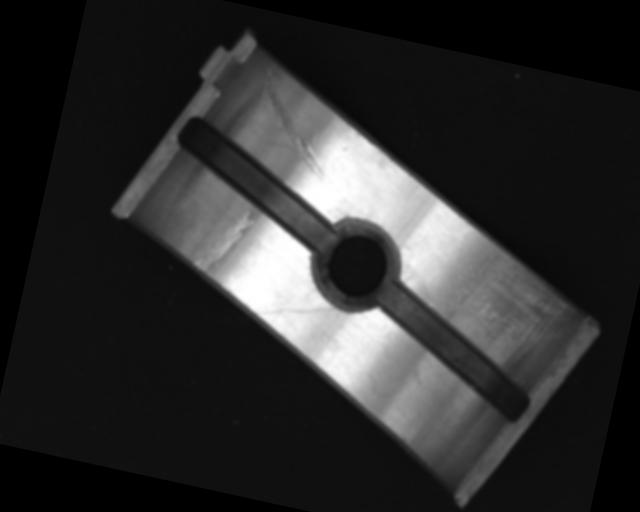gap: (360, 279, 549, 424), (161, 116, 349, 252)
hole: (301, 211, 410, 321)
nick: (246, 64, 344, 178), (191, 198, 259, 283), (253, 290, 337, 331)
scratch: (433, 237, 590, 380)
